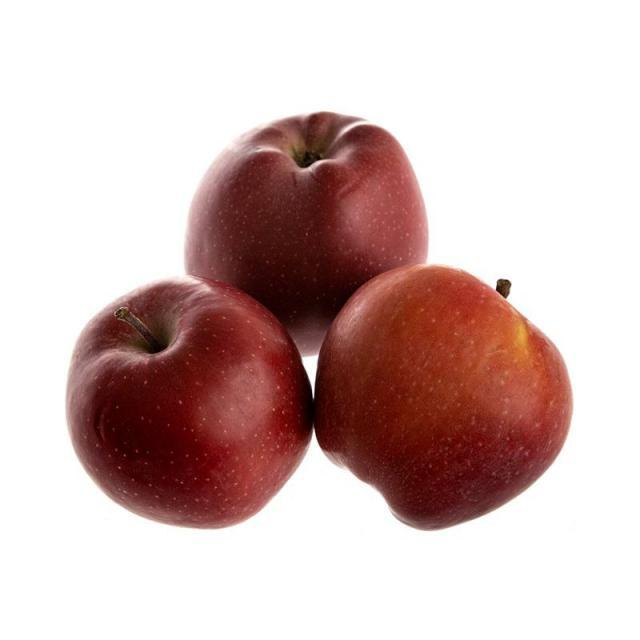Fresh Apple: (310, 287, 570, 518), (50, 295, 308, 508), (170, 110, 430, 303)
